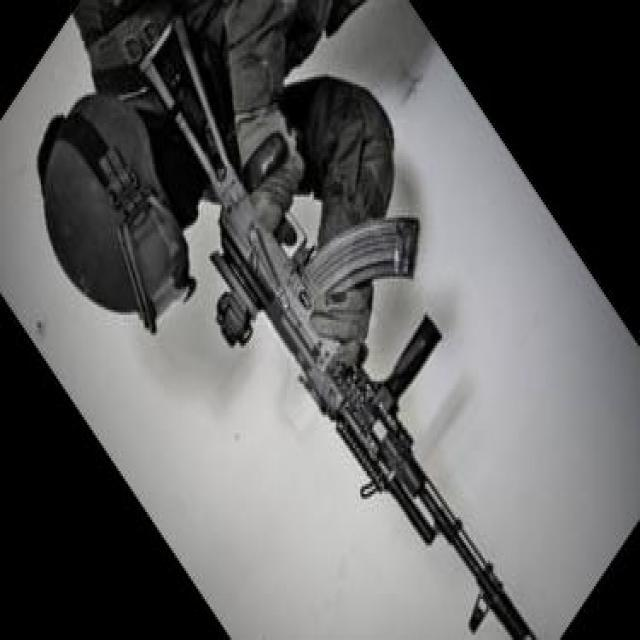weapon: (138, 16, 536, 640)
